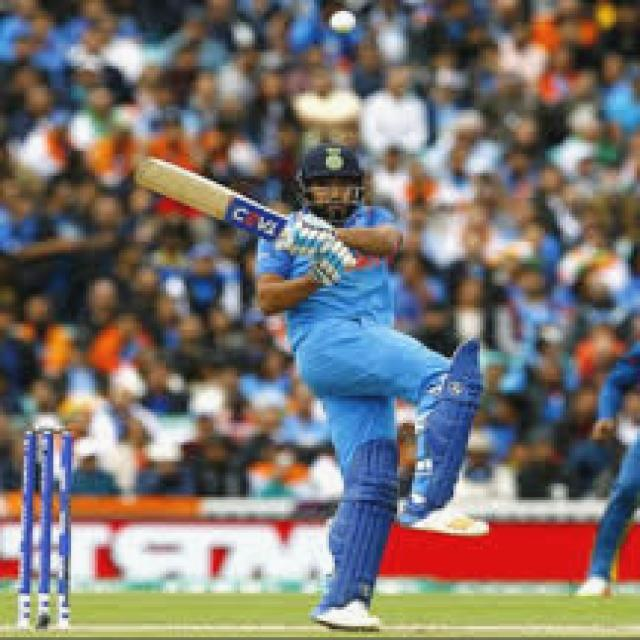toe: (129, 153, 183, 198)
